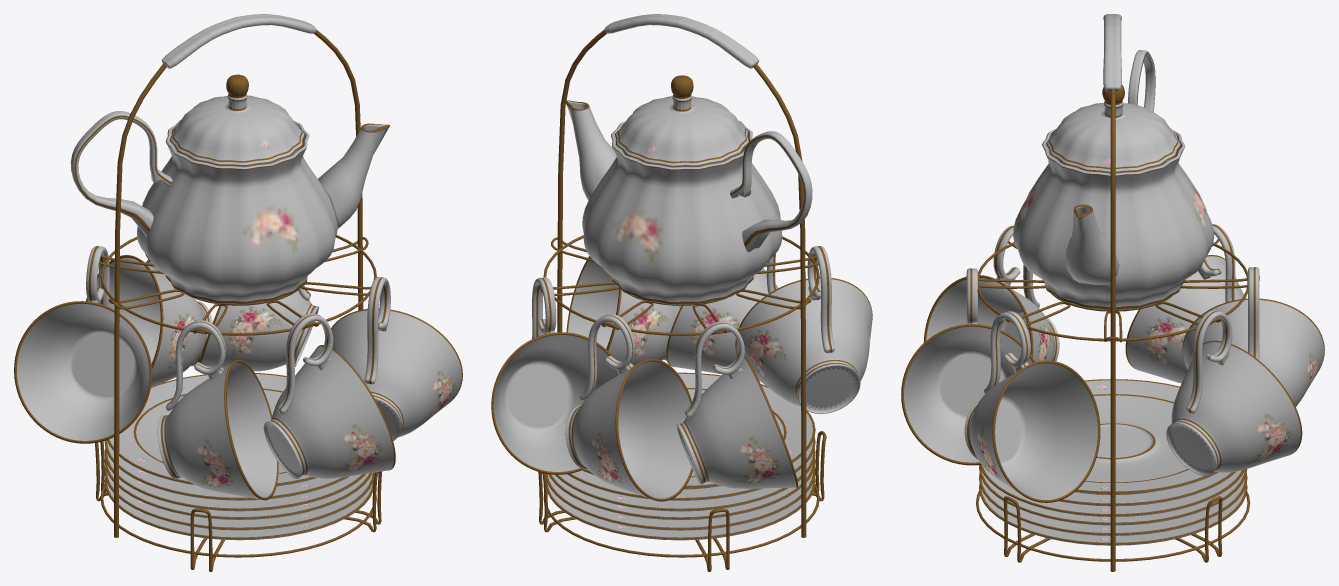
Rendered from teaset2.glb.
3 renders of one model, left to right at view 1: azimuth 30°, elevation 25°; view 2: azimuth 150°, elevation 25°; view 3: azimuth 270°, elevation 25°, orthographic.
Parts seen in each view (by area): view 1: teapot, cup6, cup1, NurbsPath.008, rack, cup3, teapotlid, cup5, cup4, plate1, plate5, plate3 (+3 smaller); view 2: teapot, cup5, cup1, cup4, rack, cup6, teapotlid, cup3, NurbsPath.008, plate5, plate6, plate3 (+3 smaller); view 3: teapot, cup3, cup4, NurbsPath.008, rack, plate1, cup5, teapotlid, cup6, cup1, plate5, plate3 (+3 smaller).
Boxes of the visible parts, x1,y1,x2,y2 form: teapot: [70, 111, 389, 304]; cup6: [14, 246, 152, 443]; cup1: [157, 320, 278, 500]; NurbsPath.008: [263, 313, 395, 478]; rack: [95, 14, 382, 571]; cup3: [331, 277, 462, 440]; teapotlid: [170, 74, 305, 166]; cup5: [86, 253, 212, 386]; cup4: [199, 285, 319, 371]; plate1: [107, 373, 316, 486]; plate5: [104, 468, 374, 530]; plate3: [104, 448, 365, 511]; teapot: [566, 100, 812, 304]; cup5: [565, 314, 692, 501]; cup1: [735, 246, 872, 413]; cup4: [491, 277, 618, 474]; rack: [538, 14, 826, 571]; cup6: [676, 321, 797, 488]; teapotlid: [615, 75, 749, 167]; cup3: [566, 256, 680, 365]; NurbsPath.008: [666, 253, 778, 373]; plate5: [545, 467, 815, 530]; plate6: [546, 477, 815, 540]; plate3: [555, 448, 815, 511]; teapot: [1013, 50, 1214, 310]; cup3: [964, 311, 1100, 502]; cup4: [1166, 310, 1302, 475]; NurbsPath.008: [901, 268, 1035, 465]; rack: [966, 14, 1259, 571]; plate1: [1075, 379, 1218, 494]; cup5: [1182, 267, 1324, 406]; teapotlid: [1046, 85, 1180, 173]; cup6: [1125, 224, 1243, 383]; cup1: [923, 225, 1059, 361]; plate5: [979, 473, 1247, 535]; plate3: [980, 464, 1244, 516].
Size of the model in its own units: 0.7436 by 1.05 by 0.822.
2 materials, 1 textured.
